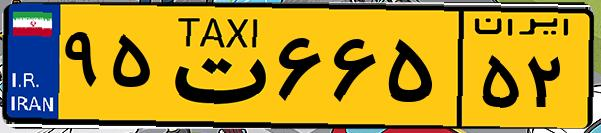2: (525, 38, 570, 115)
5: (385, 28, 445, 110), (475, 38, 525, 113), (110, 28, 158, 98)
6: (270, 28, 330, 110), (330, 28, 385, 110)
9: (57, 26, 110, 100)
ت: (158, 12, 270, 120)
